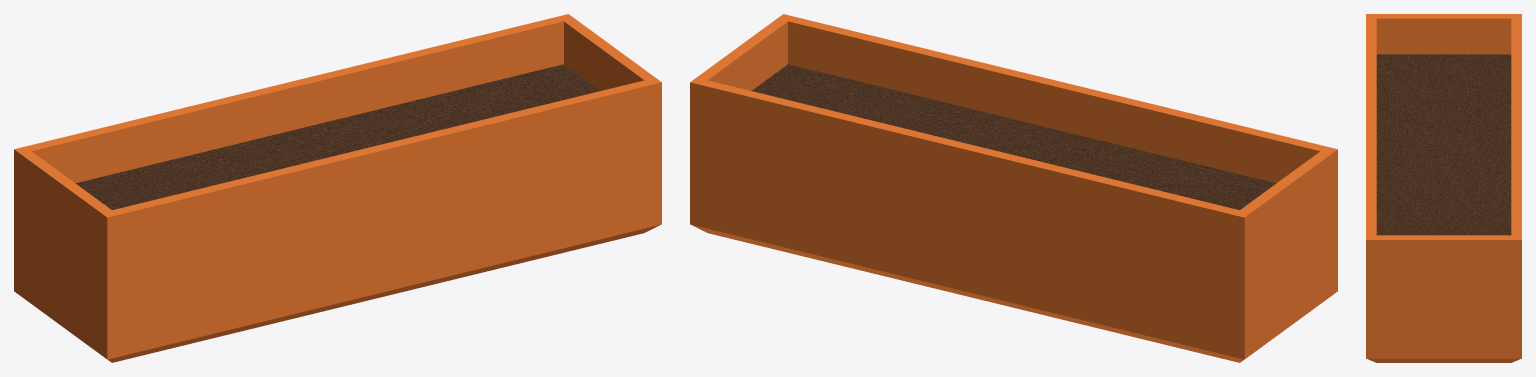
File: retangle pot.FBX
3 views of the same model, side by side, from view 1: azimuth 30°, elevation 25°; view 2: azimuth 150°, elevation 25°; view 3: azimuth 270°, elevation 25° (orthographic). The views are drawn at different scales.
Parts seen in each view (by area): view 1: Box002; view 2: Box002; view 3: Box002.
Part boxes in pixels (bbox=[...]): Box002: bbox=[14, 14, 661, 362]; Box002: bbox=[690, 14, 1337, 362]; Box002: bbox=[1366, 14, 1521, 362].
Bounding box in the file's own units: 37.99 × 10 × 11.08.
2 materials, 2 textured.
